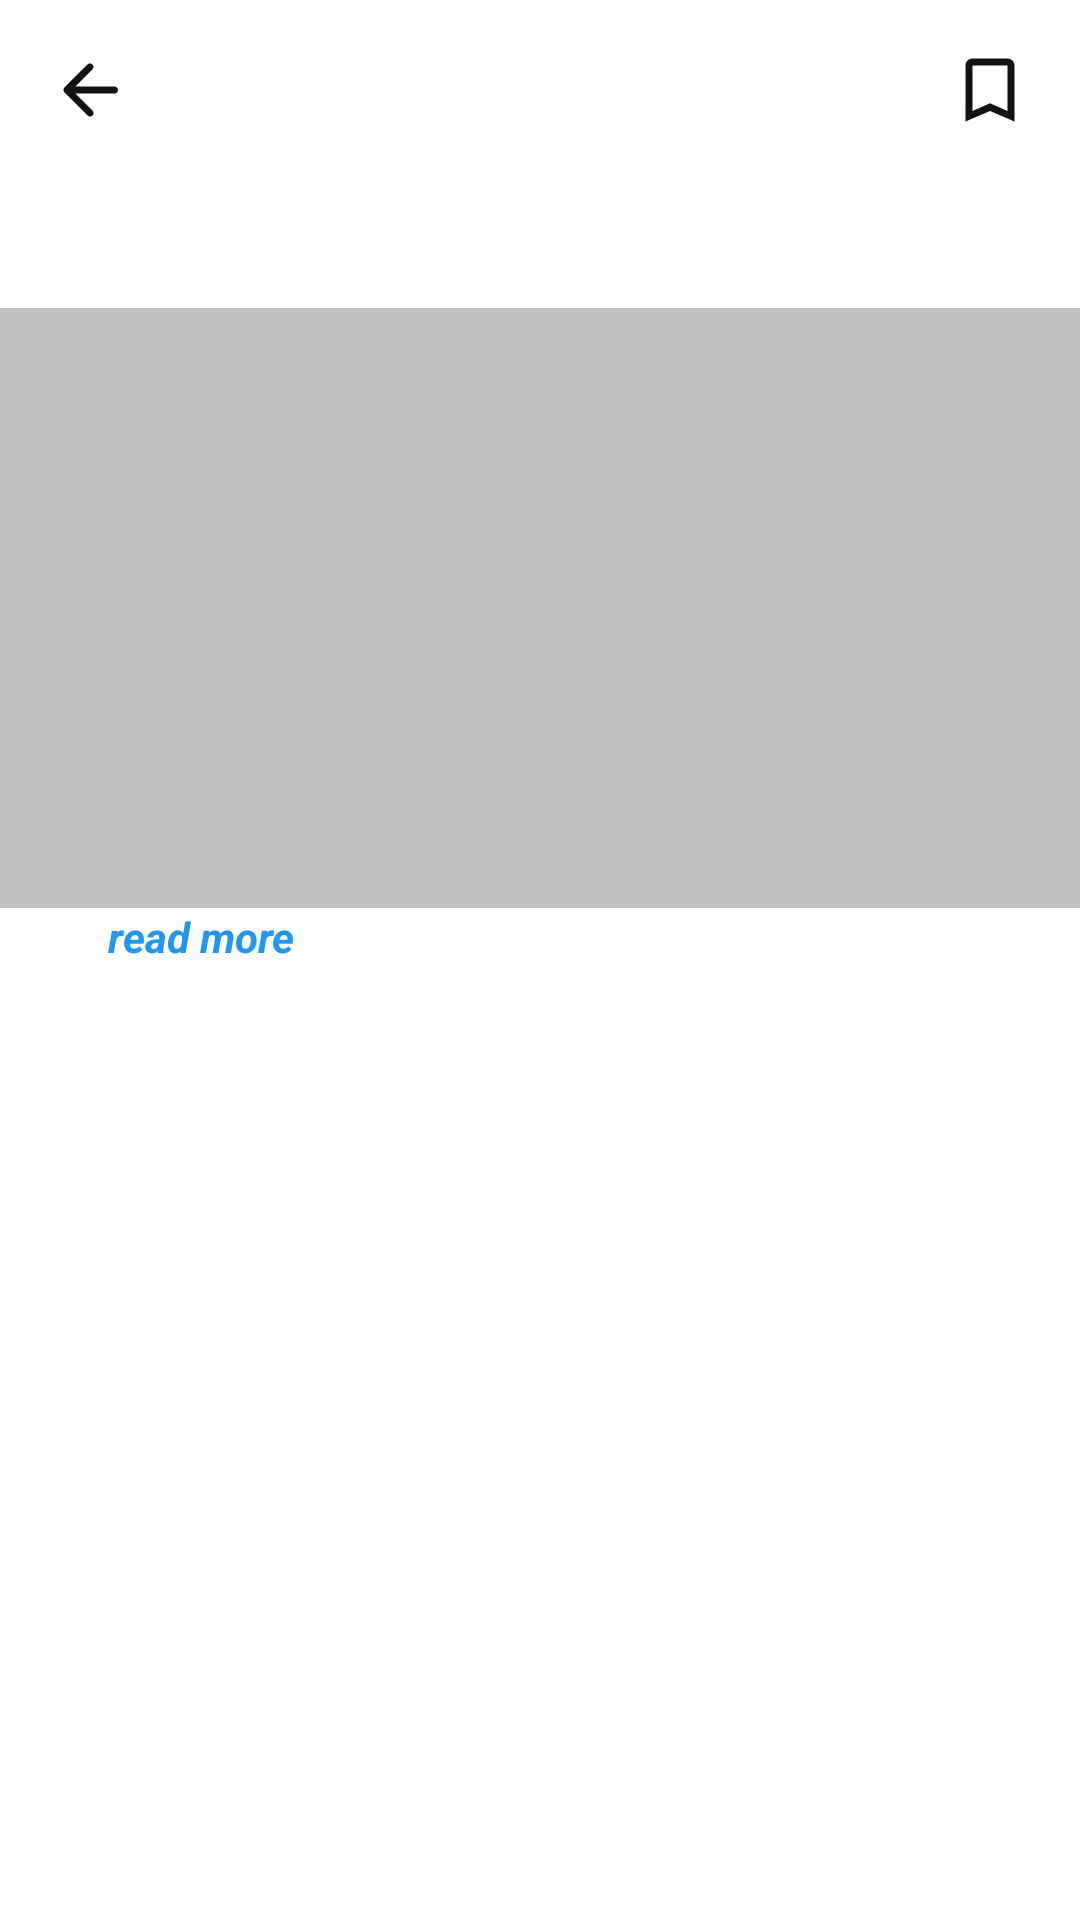

Point at icon controls on the screen. Image size 1080 x 1920, points as (x,y).
arrow back: (90,90)
bookmark border: (990,90)
